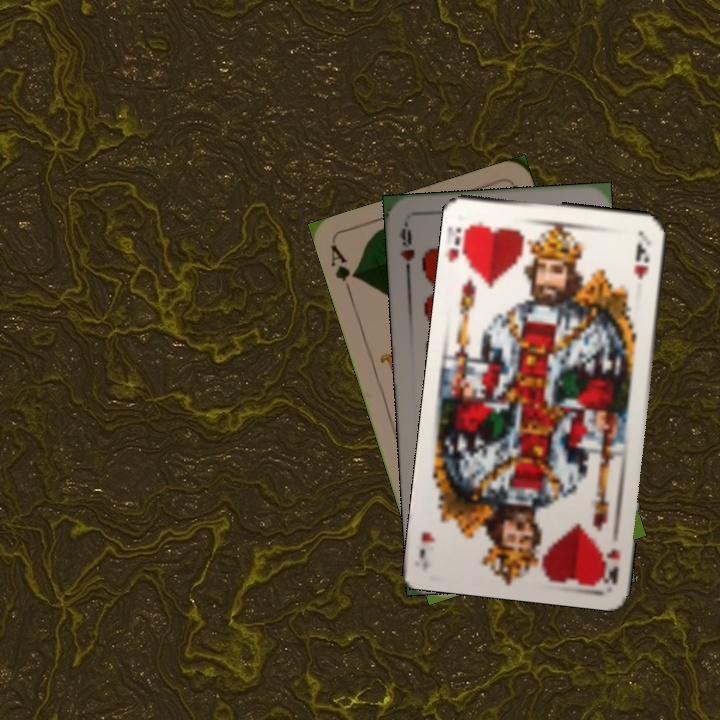GA: (326, 241, 361, 298)
H9: (395, 219, 417, 278)
HK: (448, 220, 476, 271), (596, 544, 622, 585)
